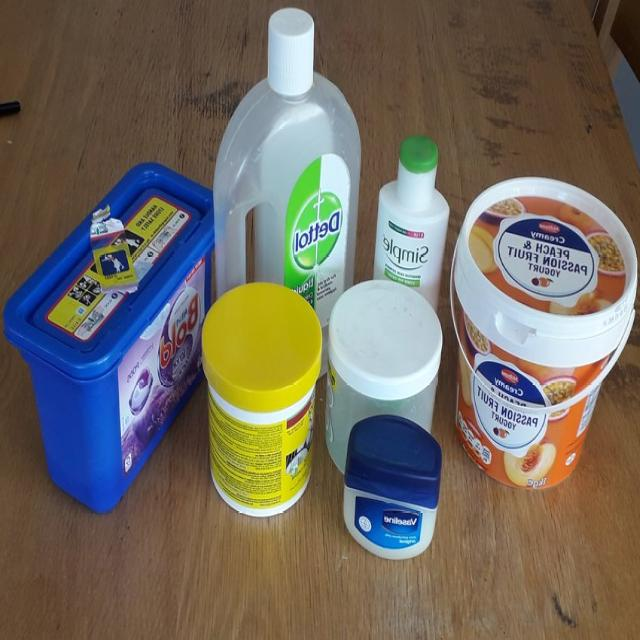plastic: (3, 162, 210, 509), (448, 173, 638, 492), (214, 5, 365, 294), (329, 282, 443, 561), (202, 283, 320, 516), (370, 139, 454, 281)
